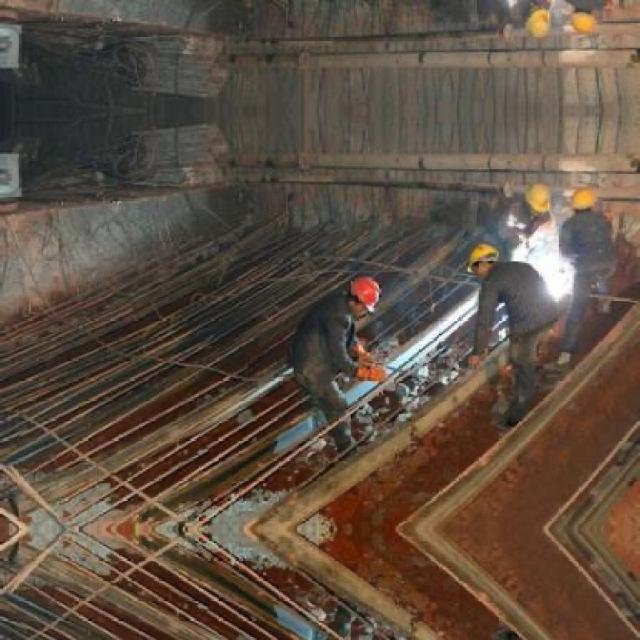helmet: (460, 240, 502, 285), (343, 272, 383, 314), (520, 0, 554, 40), (520, 180, 552, 222), (568, 185, 598, 217), (568, 3, 598, 35)
